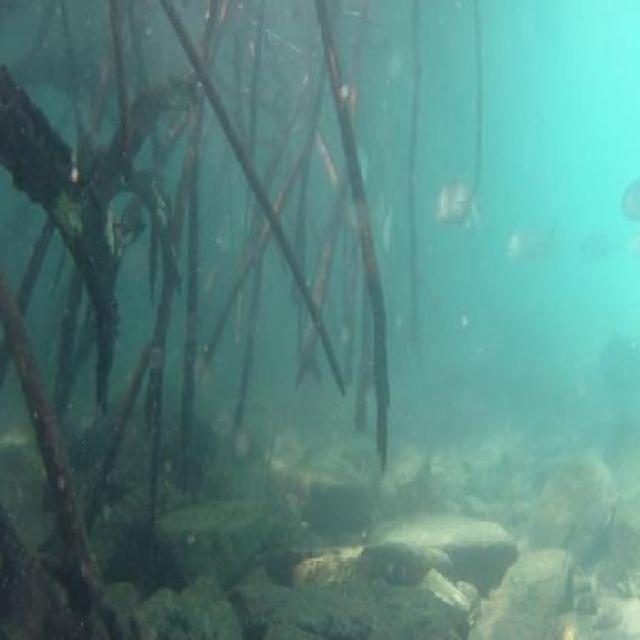Caranx_sexfasciatus_juvenile: (431, 164, 492, 242), (505, 219, 560, 281), (620, 182, 640, 232)
